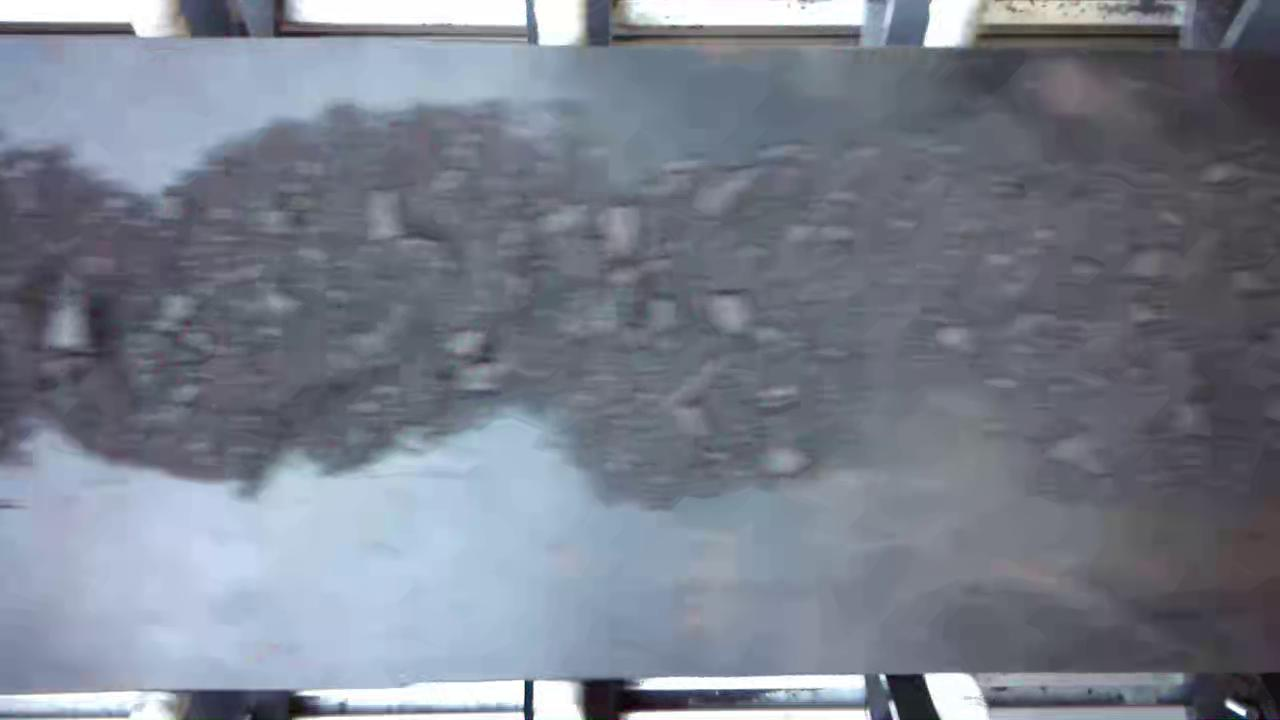conveyor: (5, 49, 1276, 668)
